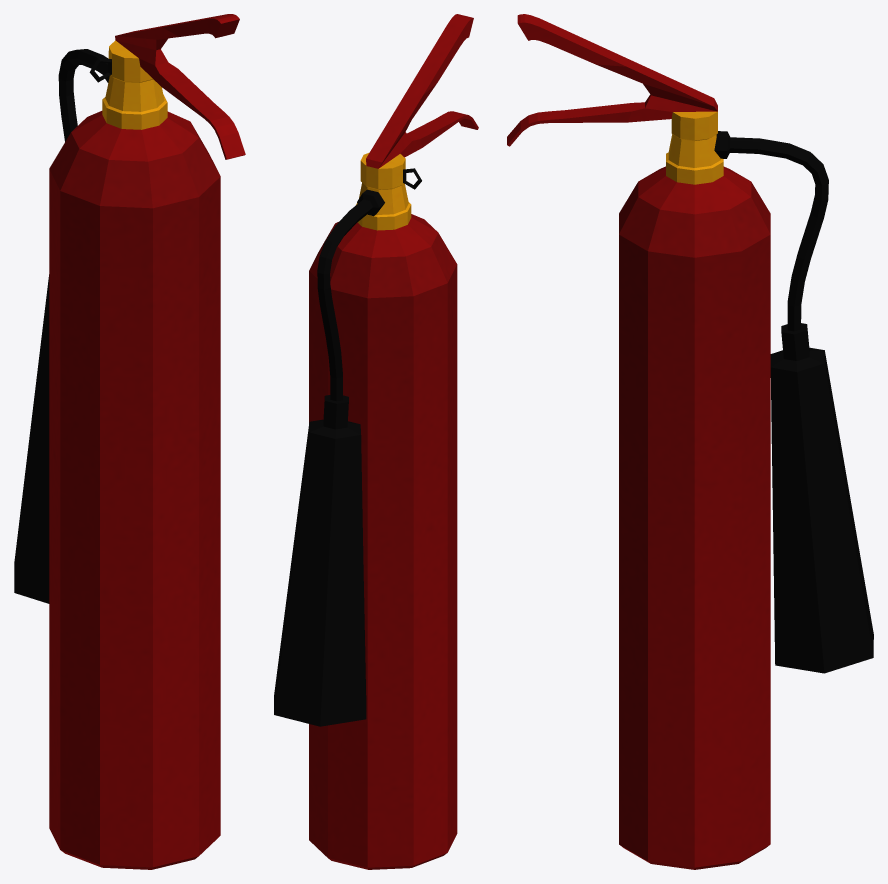
The model's file is VaahtoSammutin.fbx.
The picture shows the model from 3 angles, left to right: view 1: azimuth 30°, elevation 25°; view 2: azimuth 150°, elevation 25°; view 3: azimuth 270°, elevation 25°; orthographic projection. The views are drawn at different scales.
Visible parts, largest first — view 1: Vaahtosammutin; view 2: Vaahtosammutin; view 3: Vaahtosammutin.
Boxes of the visible parts, left/top/right/bottom form: Vaahtosammutin: left=14, top=14, right=245, bottom=869; Vaahtosammutin: left=274, top=14, right=478, bottom=869; Vaahtosammutin: left=507, top=14, right=873, bottom=869.
Size of the model in its own units: 81.45 by 462 by 187.
Materials: 1 (1 with a texture image).
